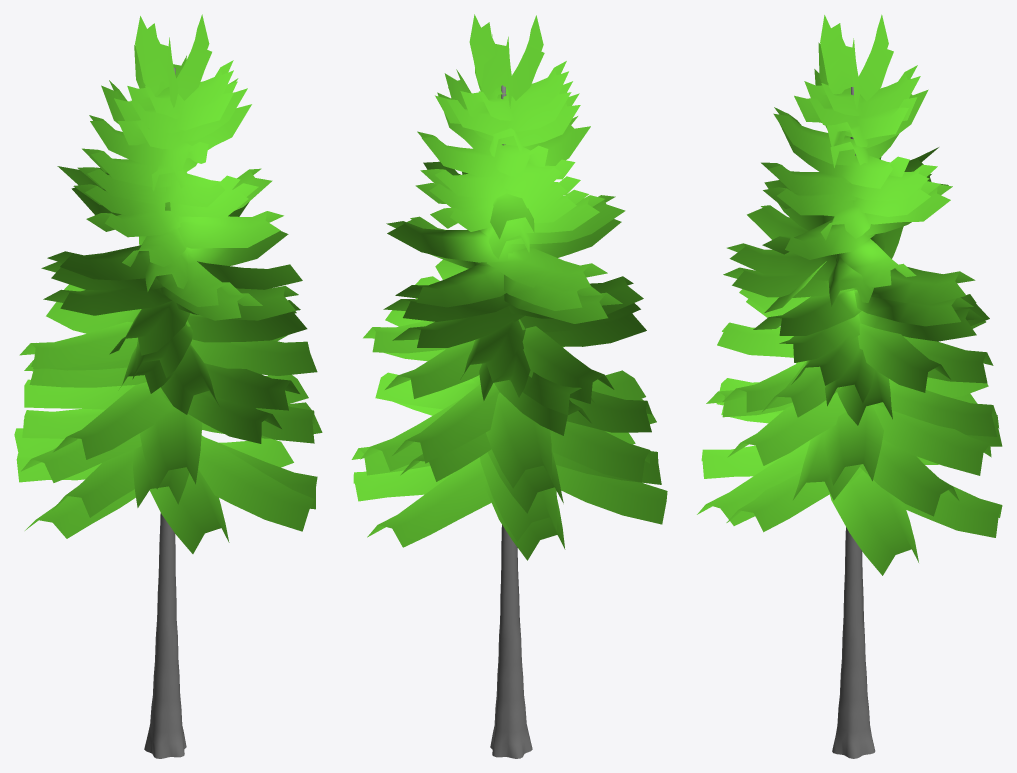
File: SM_tree_pine_02.fbx
3 renders of one model, left to right at view 1: azimuth 30°, elevation 25°; view 2: azimuth 150°, elevation 25°; view 3: azimuth 270°, elevation 25°, orthographic.
Visible parts, largest first — view 1: tree_pine001; view 2: tree_pine001; view 3: tree_pine001.
Part boxes in pixels (<box>): tree_pine001: <box>14,14,322,758</box>; tree_pine001: <box>351,14,667,758</box>; tree_pine001: <box>697,14,1002,758</box>.
Size of the model in its own units: 211 by 508 by 193.
